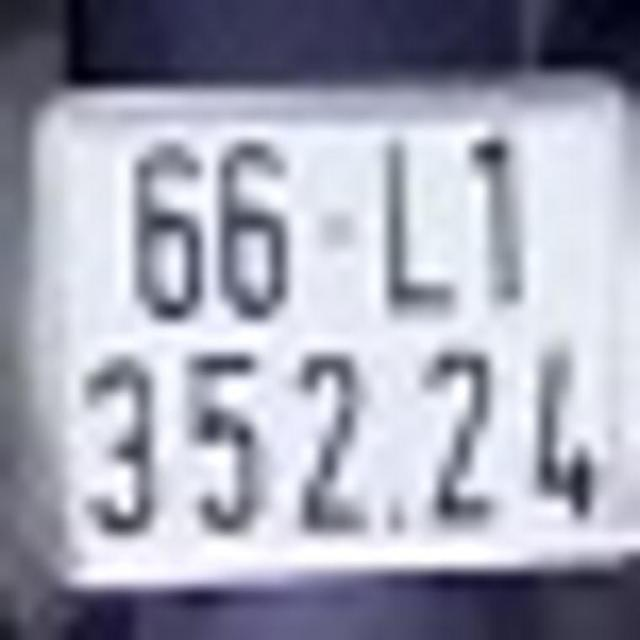1: (463, 119, 541, 308)
2: (416, 340, 499, 532), (296, 340, 374, 543)
3: (84, 351, 158, 544)
4: (526, 332, 600, 535)
5: (185, 344, 266, 538)
6: (213, 129, 292, 322), (132, 130, 208, 327)
L: (370, 124, 460, 319)
